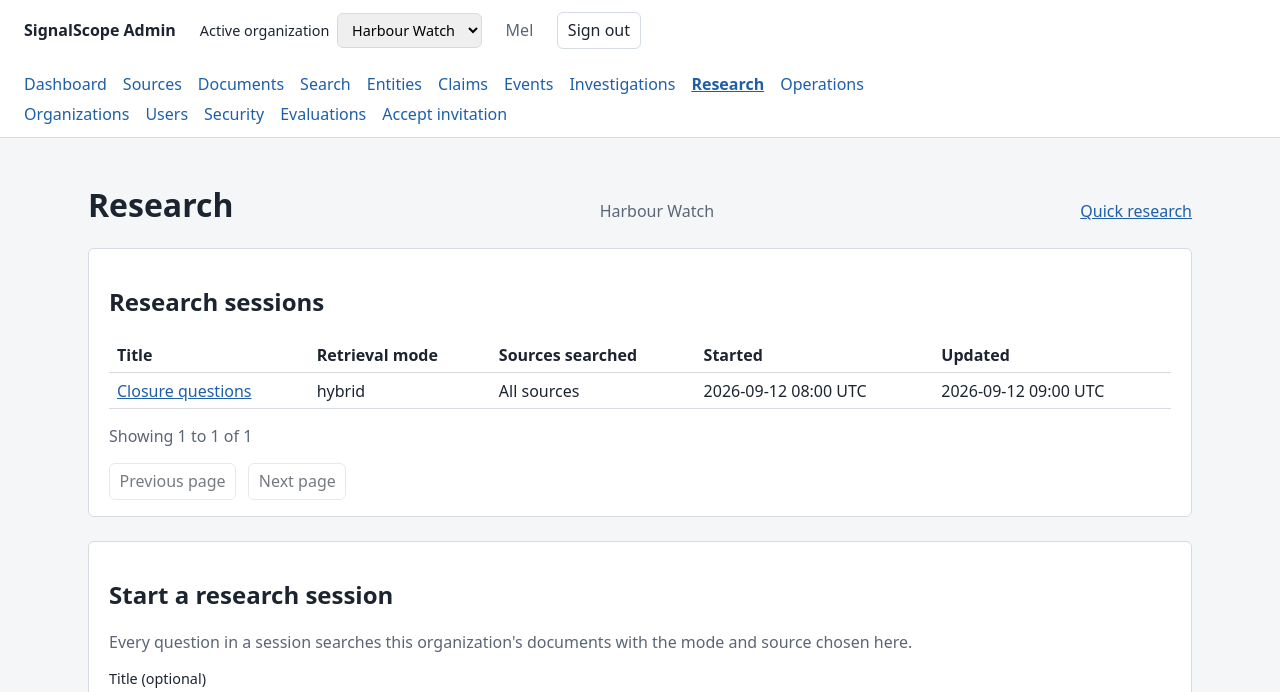
Test: research sessions › drops the old organization's sessions when switching
The width and height of the screenshot is (1280, 692).
Check: the link "Closure questions" is shown, box [117,380,252,402]
Select "River Desk" in the dropdown labelled "Active organization" at (410, 30), box [337,12,482,48]
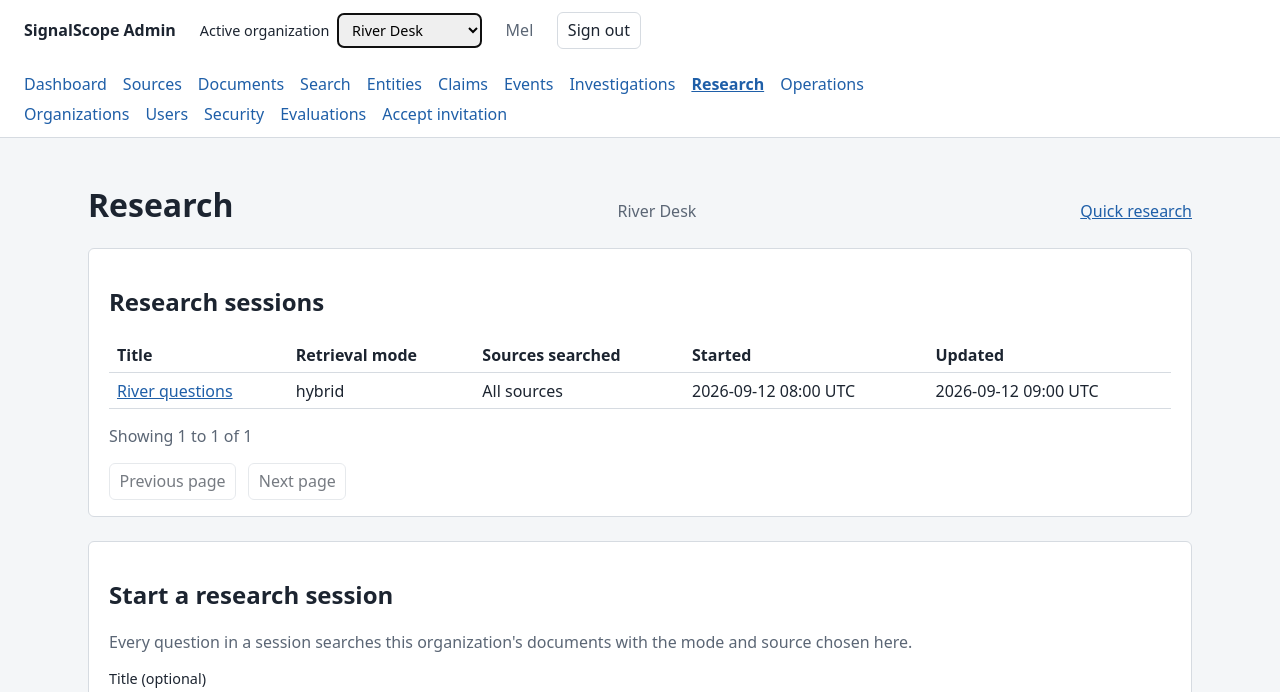
Check: the link "Closure questions" is gone
Check: the link "River questions" is shown, box [117,380,233,402]
